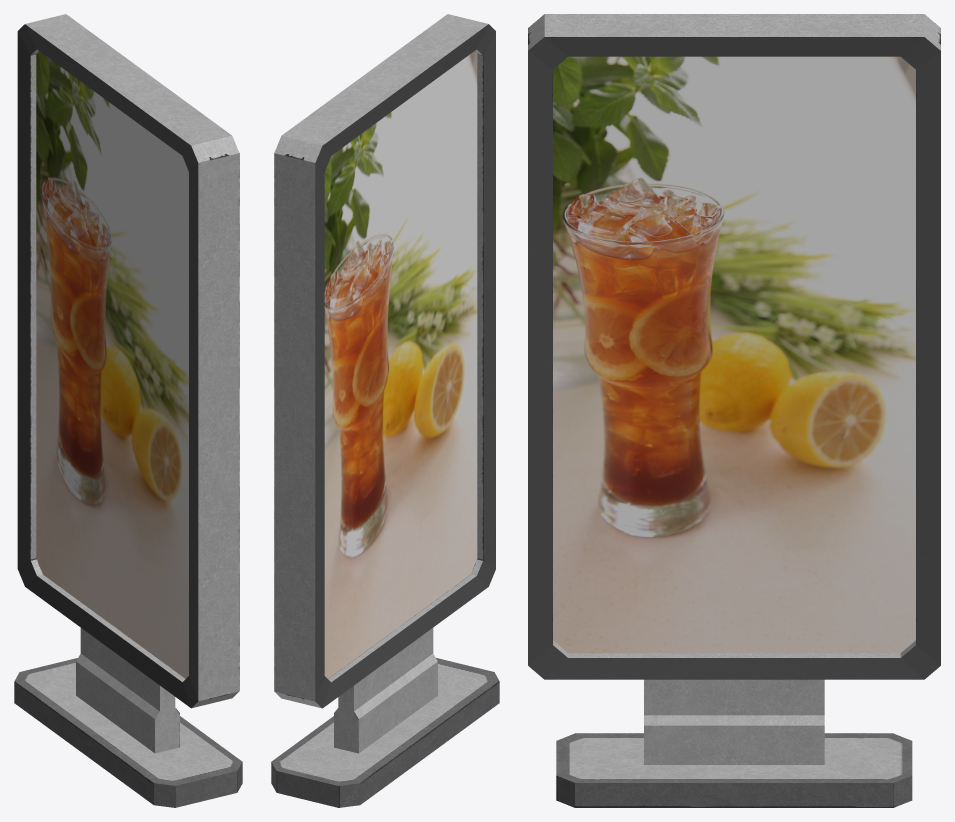
File: Panel010.FBX
3 views of the same model, side by side, from view 1: azimuth 30°, elevation 25°; view 2: azimuth 150°, elevation 25°; view 3: azimuth 270°, elevation 25° (orthographic). The views are drawn at different scales.
Visible parts, largest first — view 1: Panel010; view 2: Panel010; view 3: Panel010.
Boxes of the visible parts, x1,y1,x2,y2 form: Panel010: [14, 14, 242, 807]; Panel010: [271, 14, 499, 807]; Panel010: [528, 14, 940, 807].
Bounding box in the file's own units: 297 × 2125 × 1049.
